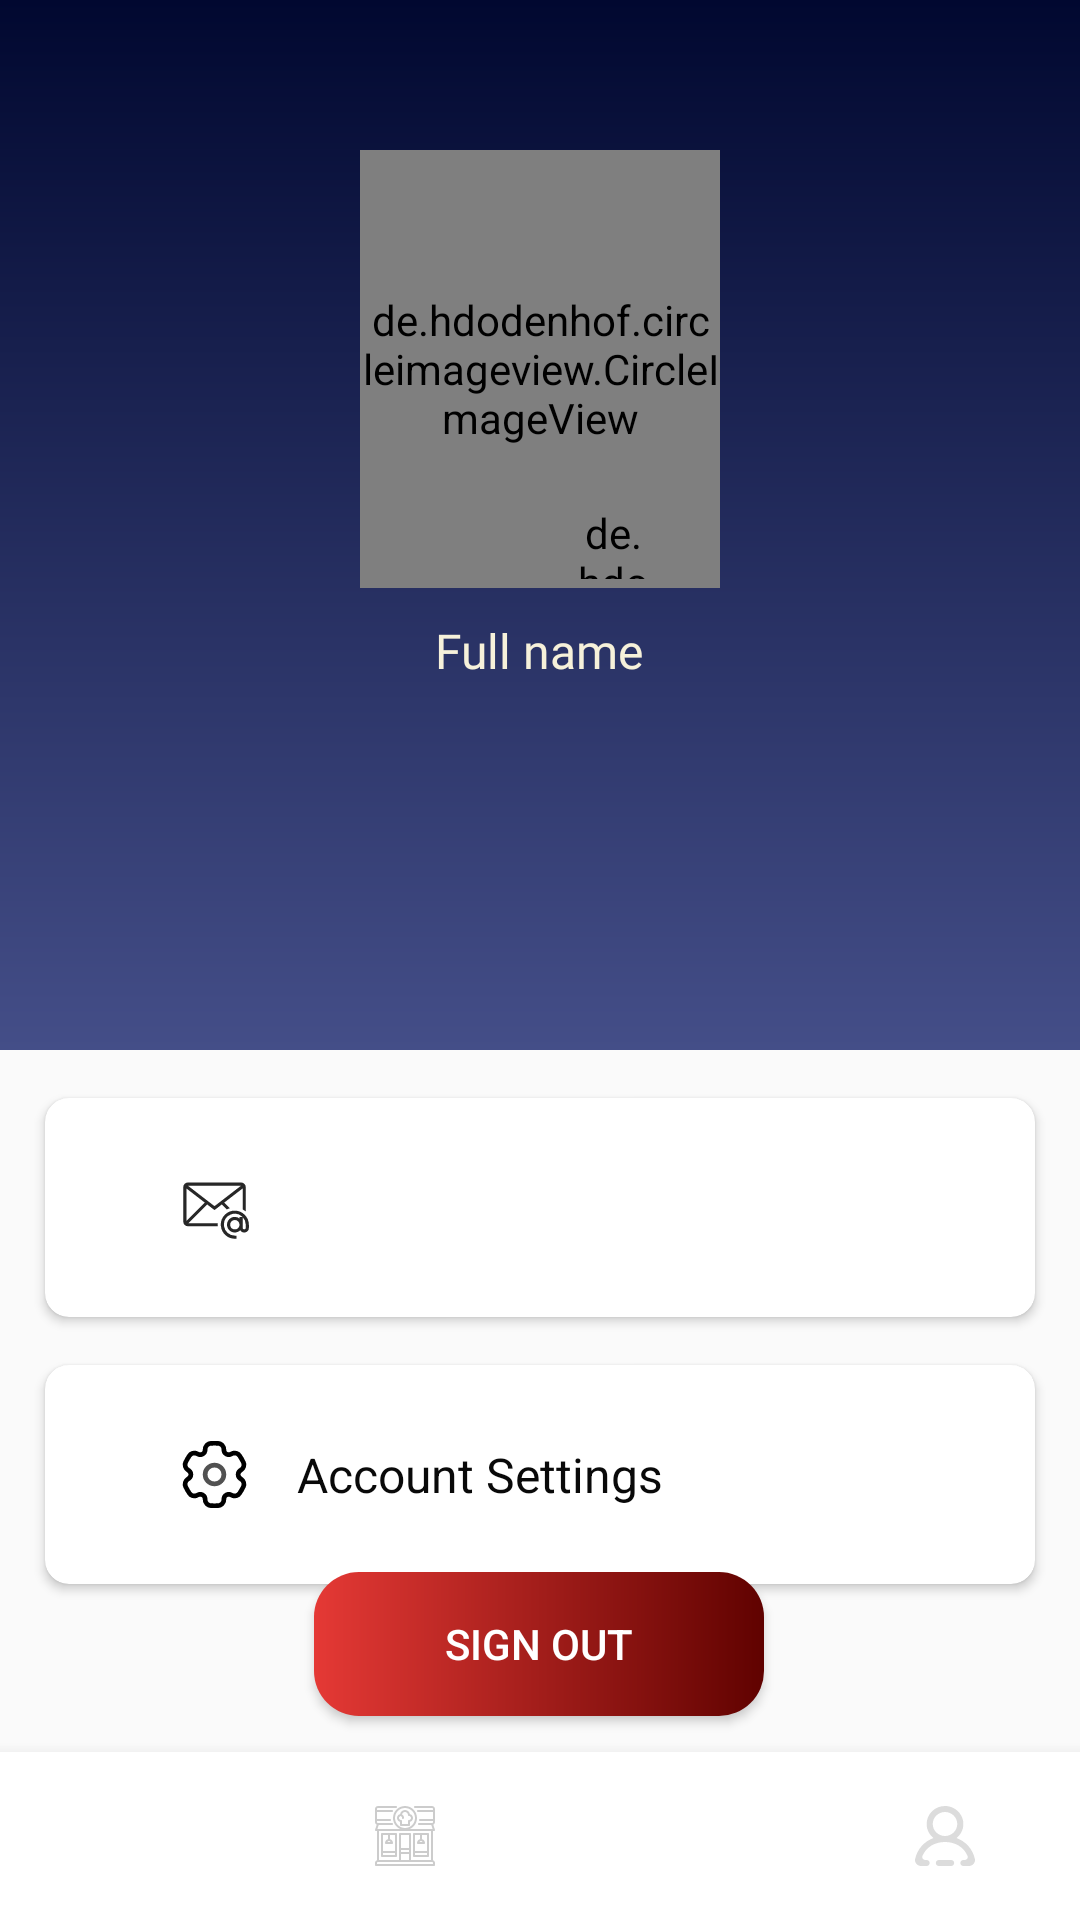

Icon bounding boxes for this 1080x1920 phone screenshot, format (x1, y1, x2, y2):
email address: (183, 1182, 249, 1239)
